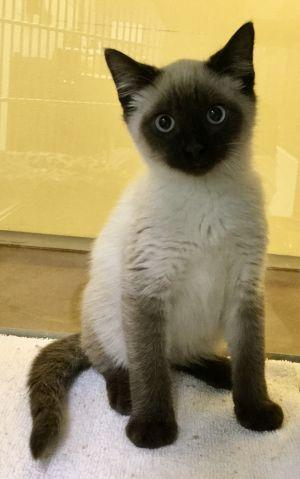siamese: (96, 18, 277, 190)
